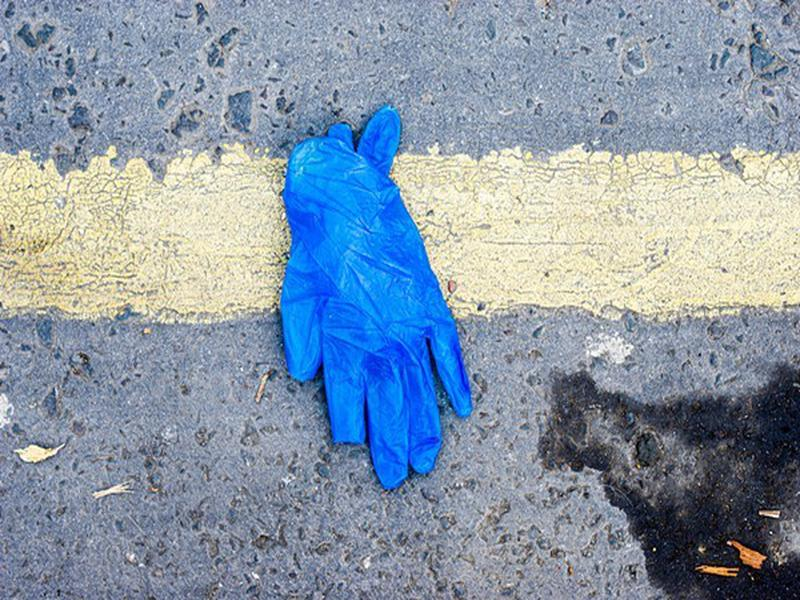gloves: (250, 103, 489, 493)
